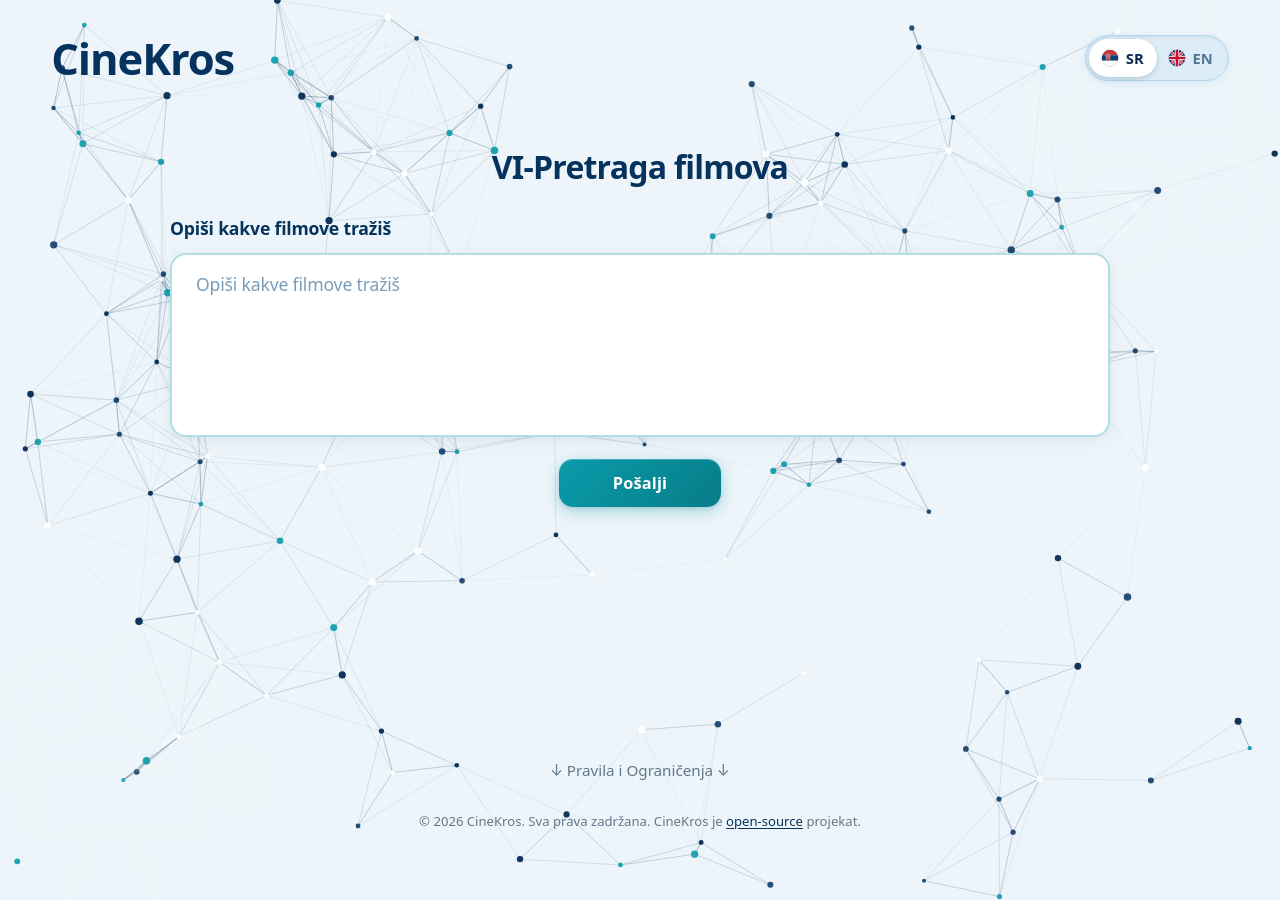
Test case: v2 recommendation frontend › parses business alerts on non-2xx HTTP responses
The image size is (1280, 900).
Type "film" into the text box at (640, 345), box [170, 253, 1110, 437]
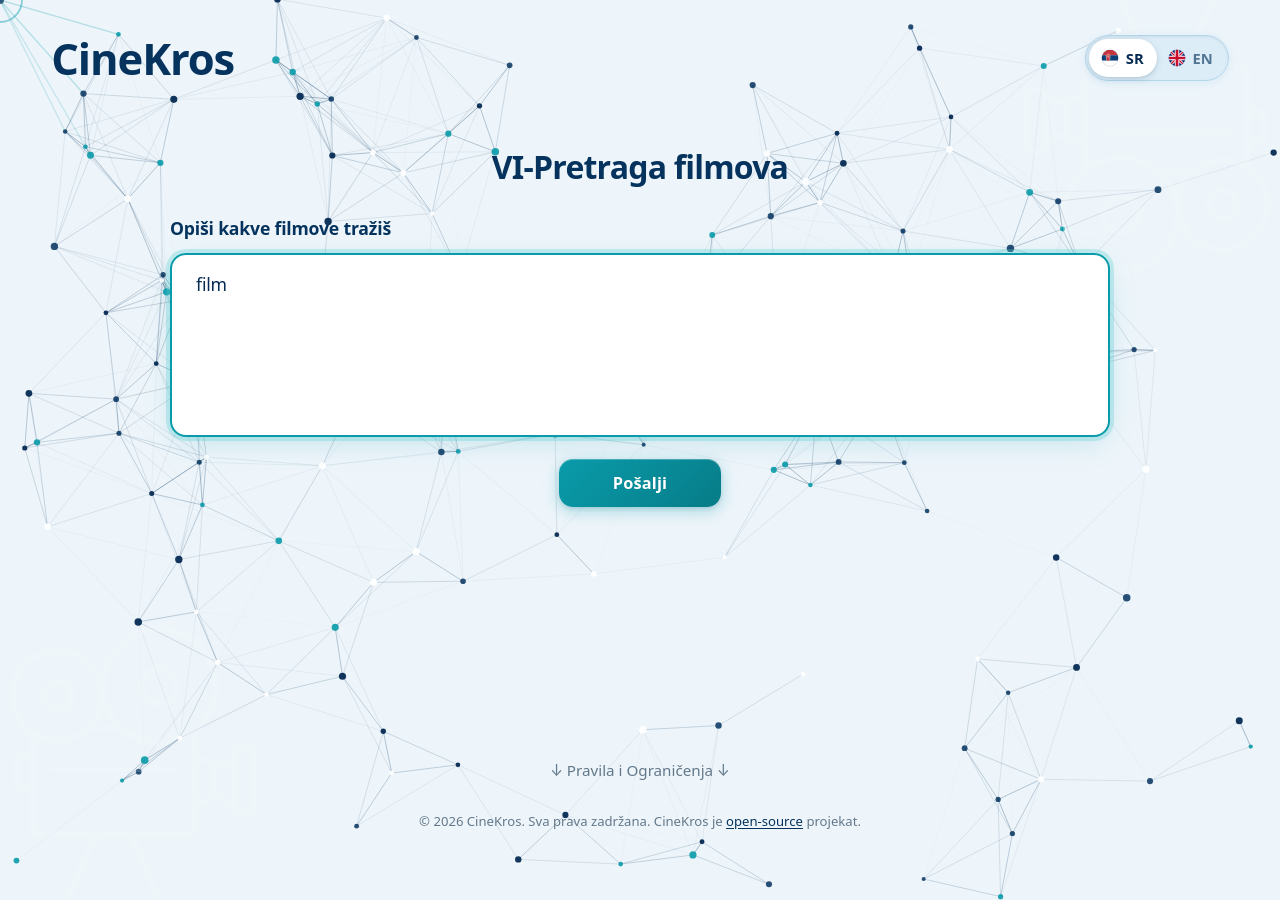
Click the button "Pošalji" at (640, 483), box [559, 459, 721, 507]
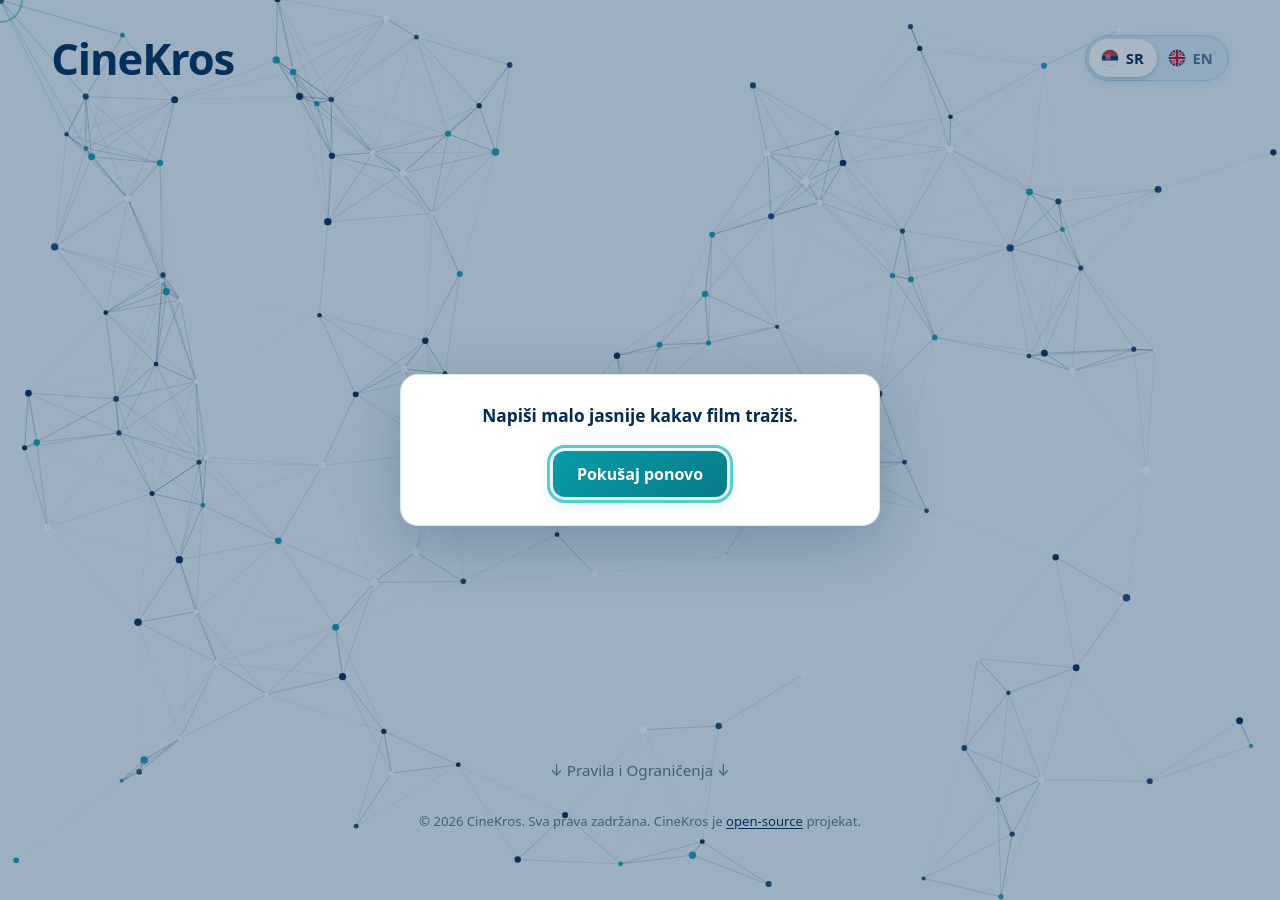
Check: the dialog shows "Napiši malo jasnije kakav film tražiš.", box [482, 404, 798, 427]
